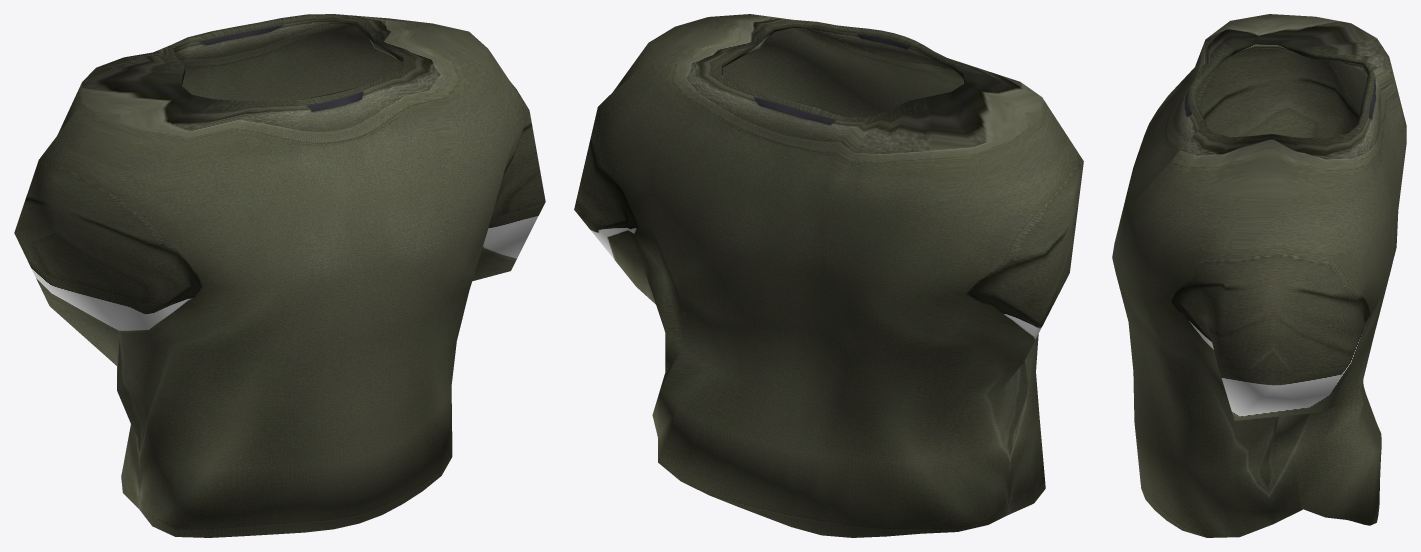
3 views of the same model, side by side, from view 1: azimuth 30°, elevation 25°; view 2: azimuth 150°, elevation 25°; view 3: azimuth 270°, elevation 25° (orthographic). The views are drawn at different scales.
Visible parts, largest first — view 1: garment; view 2: garment; view 3: garment.
Boxes of the visible parts, <box> form: garment: <box>14,14,545,537</box>; garment: <box>574,14,1083,537</box>; garment: <box>1112,14,1406,537</box>.
Bounding box in the file's own units: 0.5754 × 0.4731 × 0.3162.
Materials: 1 (1 with a texture image).
